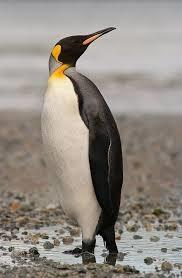king: (20, 0, 163, 273)
